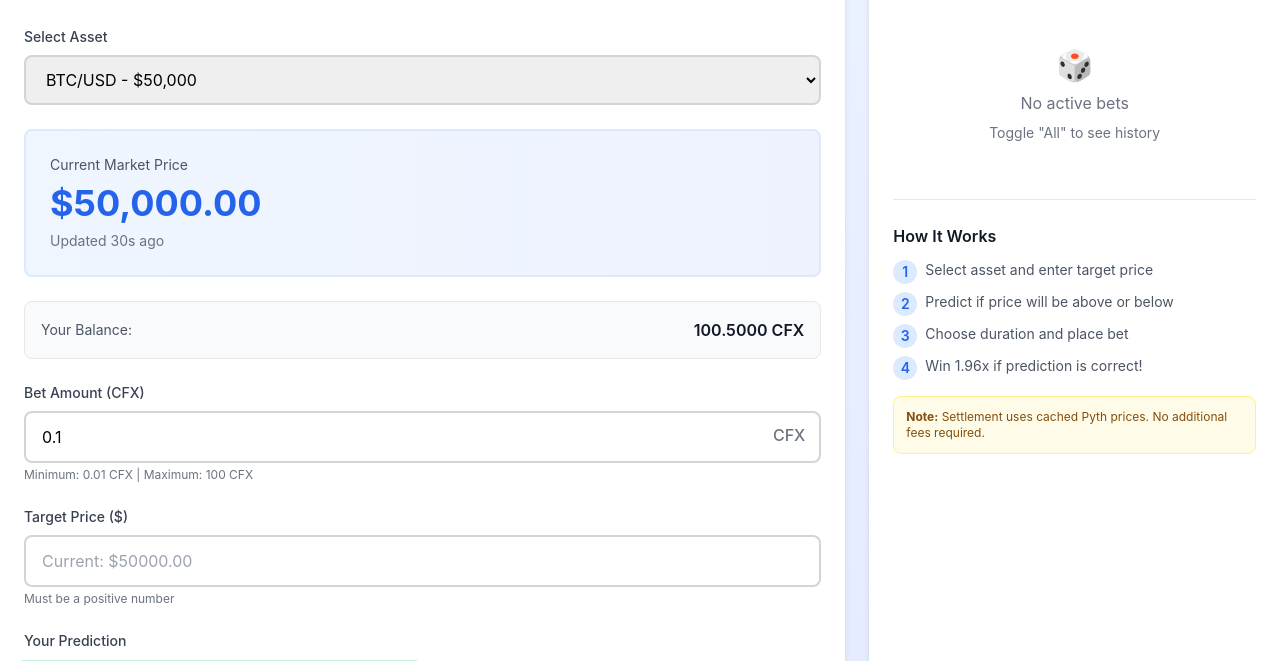
BettingInterface Component › Bet Summary › displays platform fee (4%) correctly
Replace the text in the 1st number field with "10". click: (423, 437)
box: [24,411,821,463]
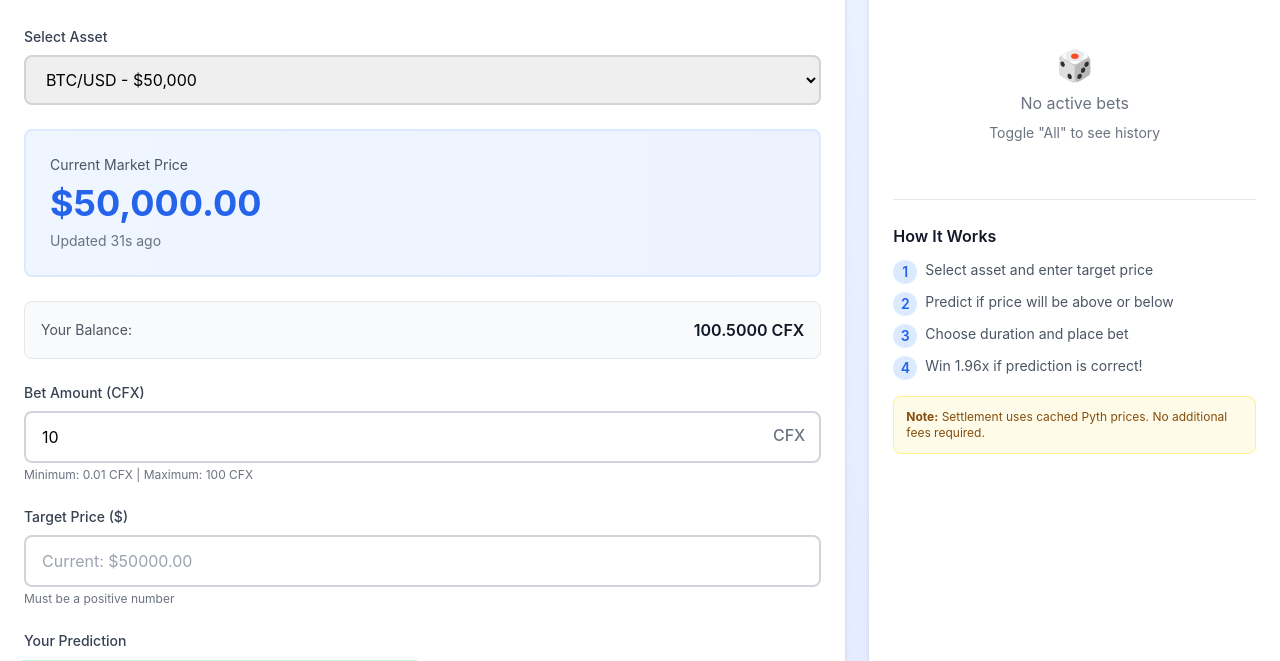
Type "55000" into the number field with placeholder "Current: $50000.00". click: (423, 561)
box: [24,535,821,587]
(page scrolled)
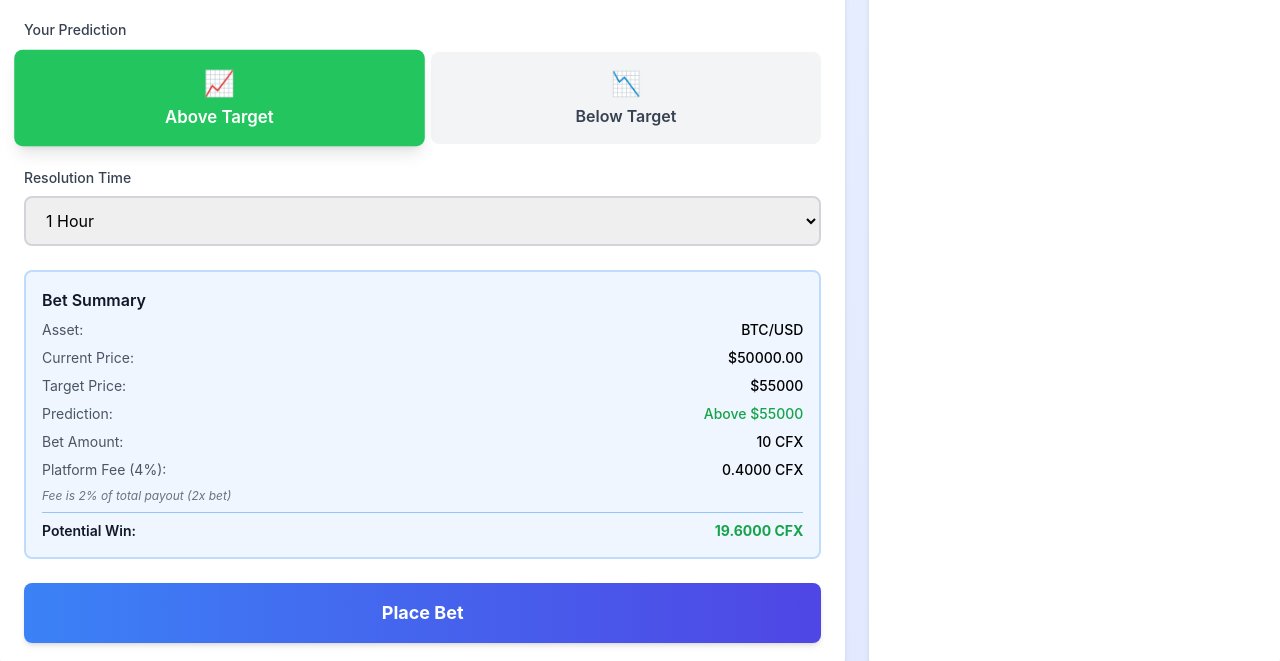
Expected: the text "Bet Summary" shows "Platform Fee", [42,461,166,478]
Expected: the text "Bet Summary" shows "0.4000 CFX", [24,270,821,559]
